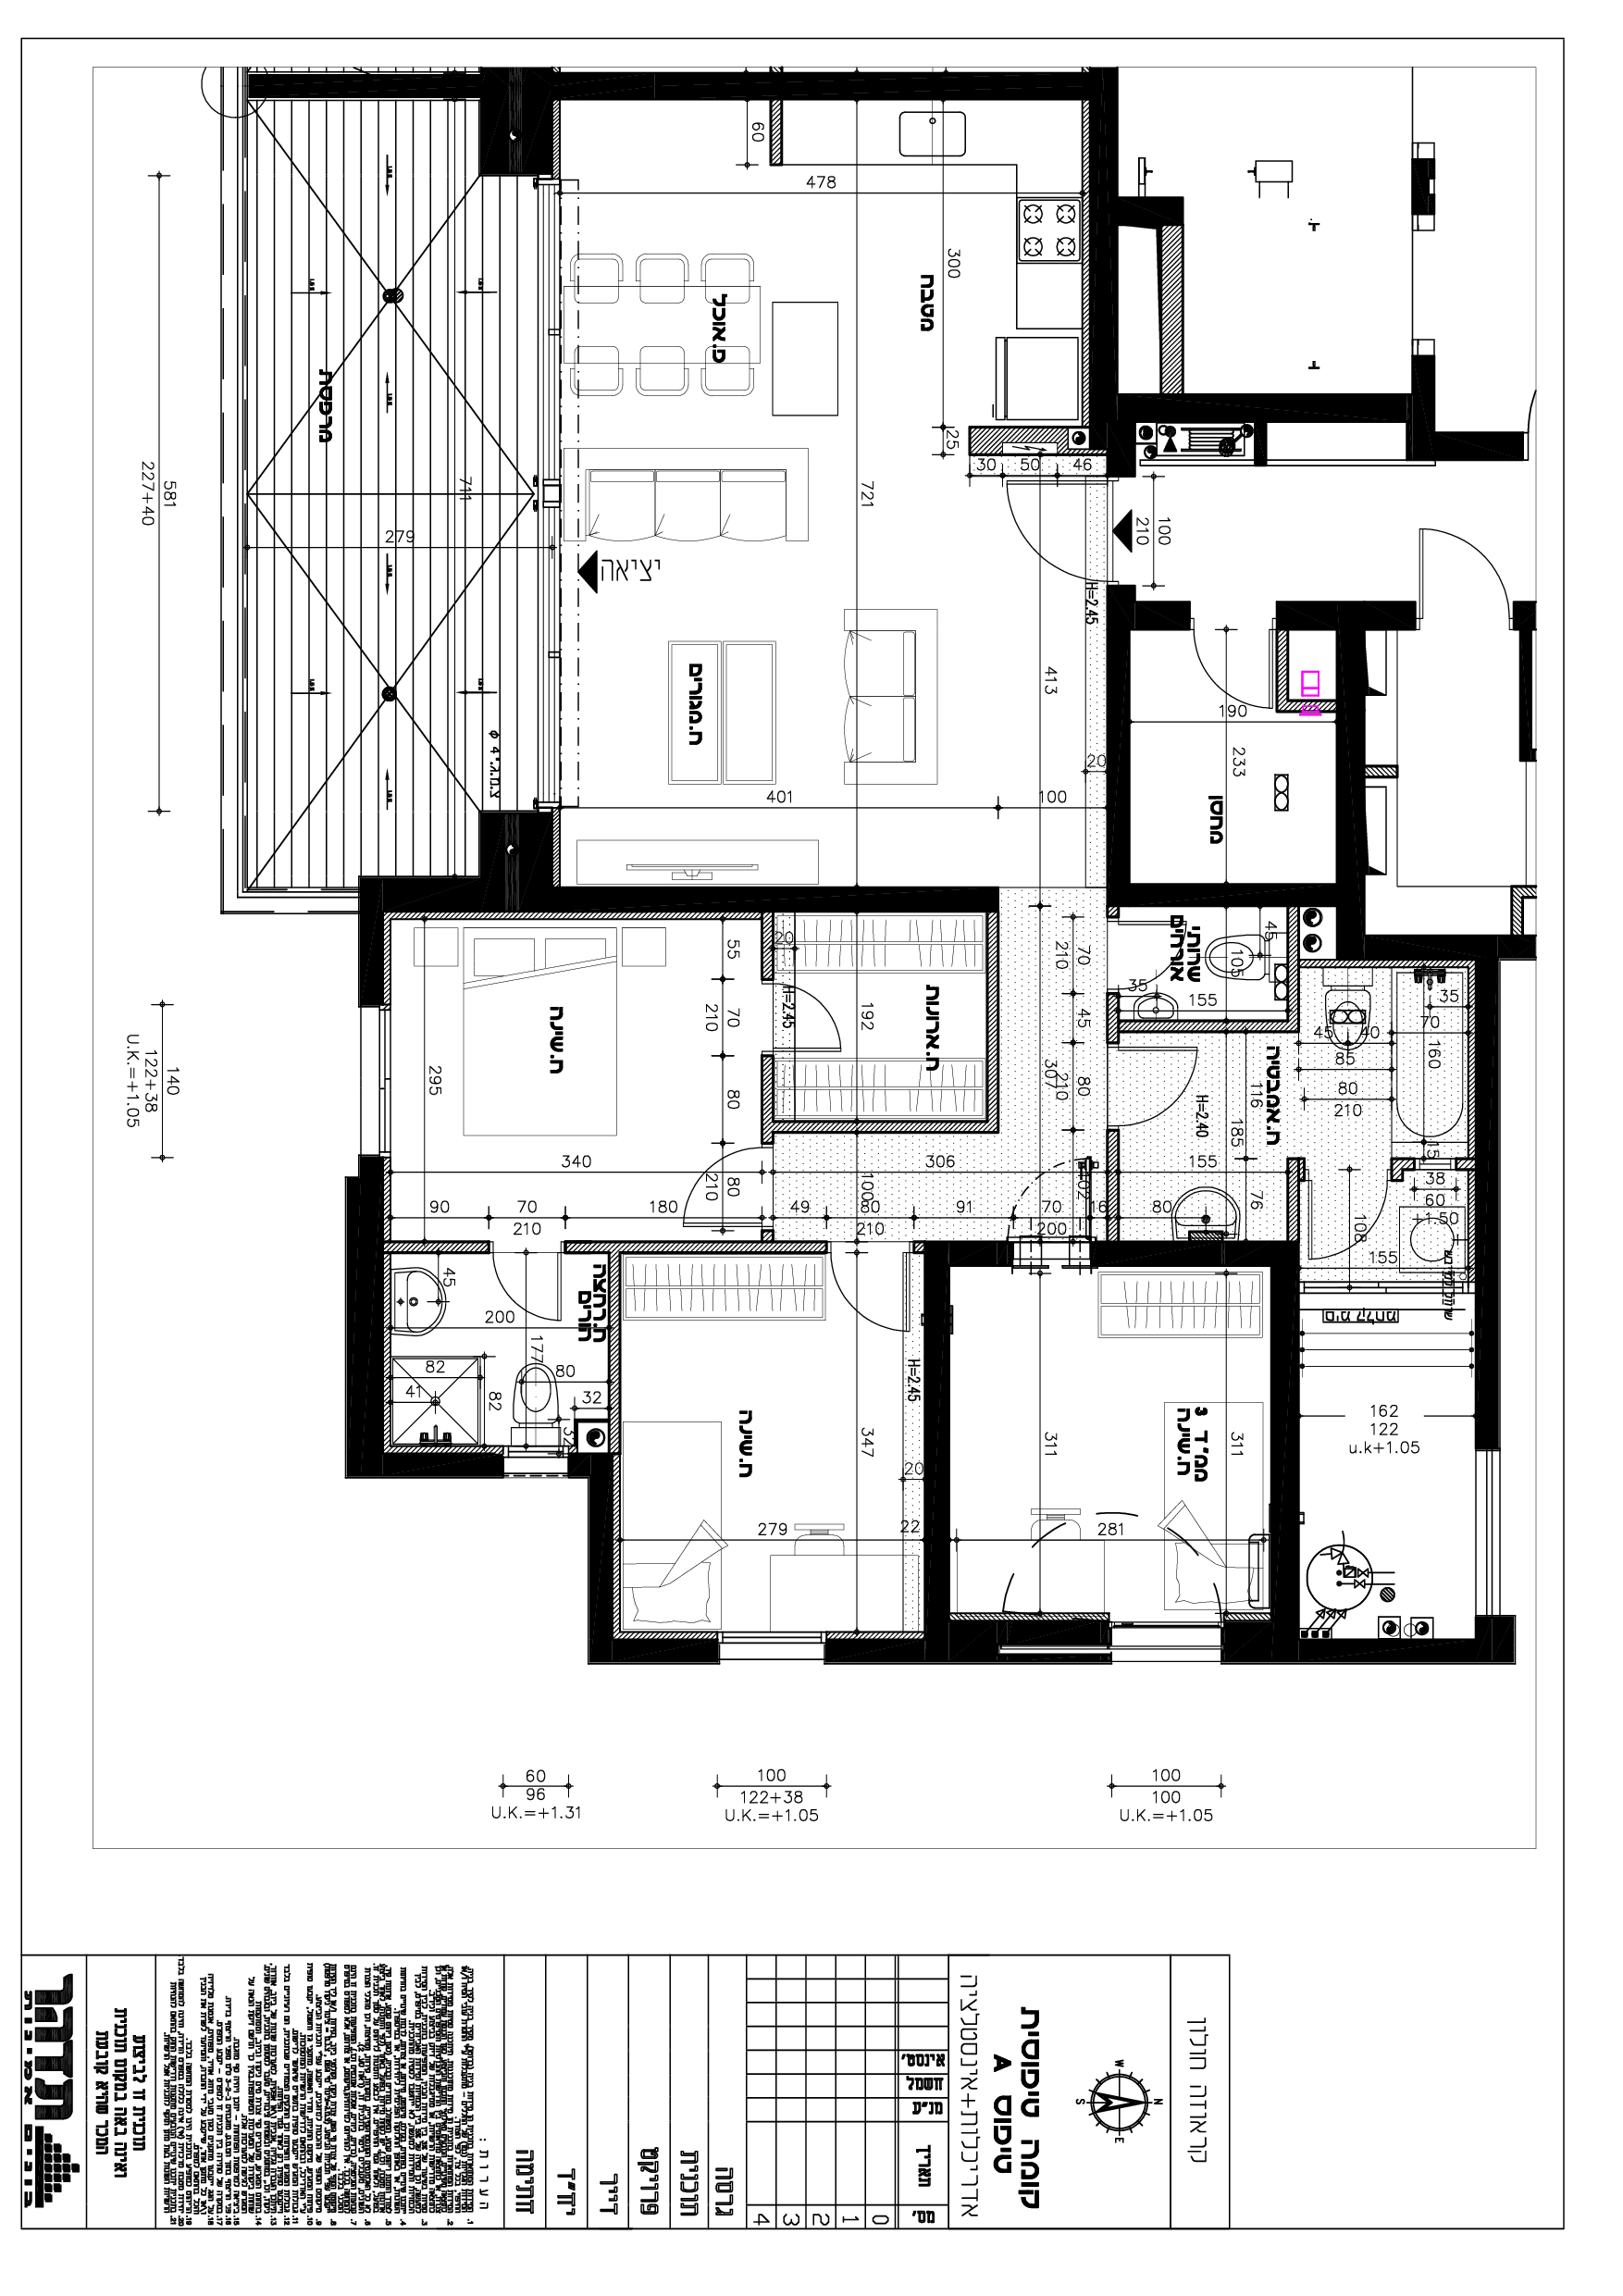door: (1001, 480, 1080, 599), (1409, 518, 1512, 590), (826, 1258, 913, 1339), (1126, 1042, 1201, 1133), (1184, 648, 1272, 718), (1303, 1195, 1391, 1261), (485, 1265, 569, 1326), (782, 980, 848, 1054)
wall: (251, 76, 1107, 97), (360, 885, 992, 908), (926, 1247, 952, 1664), (1273, 1254, 1296, 1650), (346, 1189, 378, 1451), (1340, 608, 1363, 954), (1121, 395, 1407, 422), (1094, 69, 1114, 406), (1108, 588, 1129, 898), (1101, 1244, 1275, 1267), (592, 1460, 611, 1653), (1161, 228, 1182, 390), (520, 72, 552, 170), (987, 912, 999, 1131), (956, 1627, 1105, 1643), (592, 1641, 715, 1658), (766, 1121, 987, 1130), (1107, 1133, 1117, 1233), (1286, 1159, 1298, 1240)
window: (718, 1625, 826, 1671)
